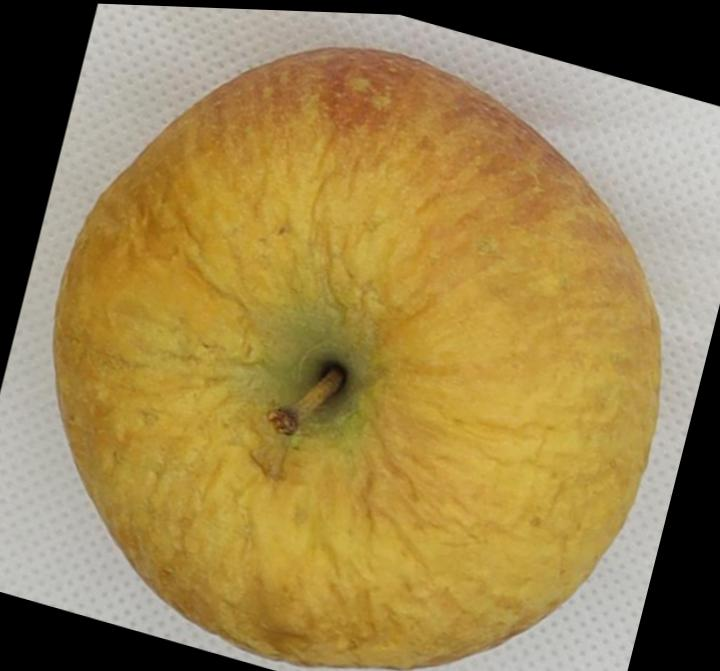apple: (54, 48, 659, 669)
rot_mold_decay: (54, 48, 659, 669)
